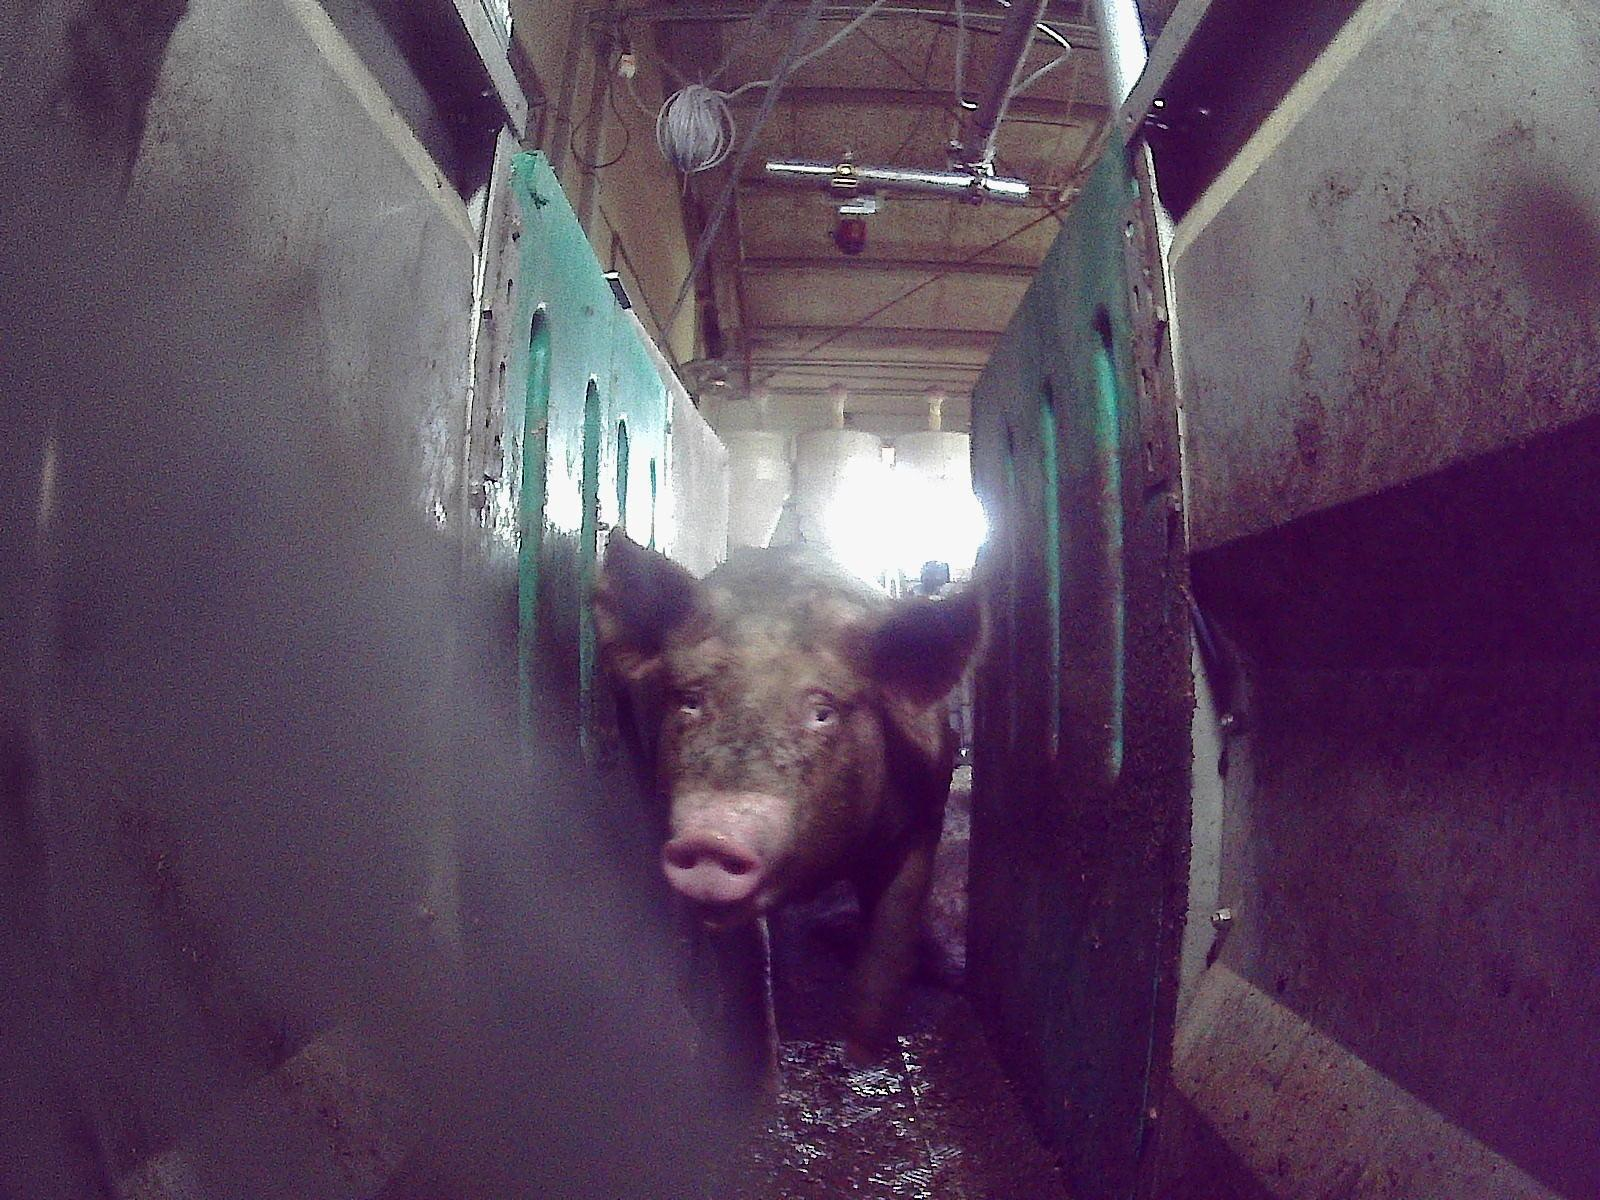Face: (655, 612, 886, 930)
